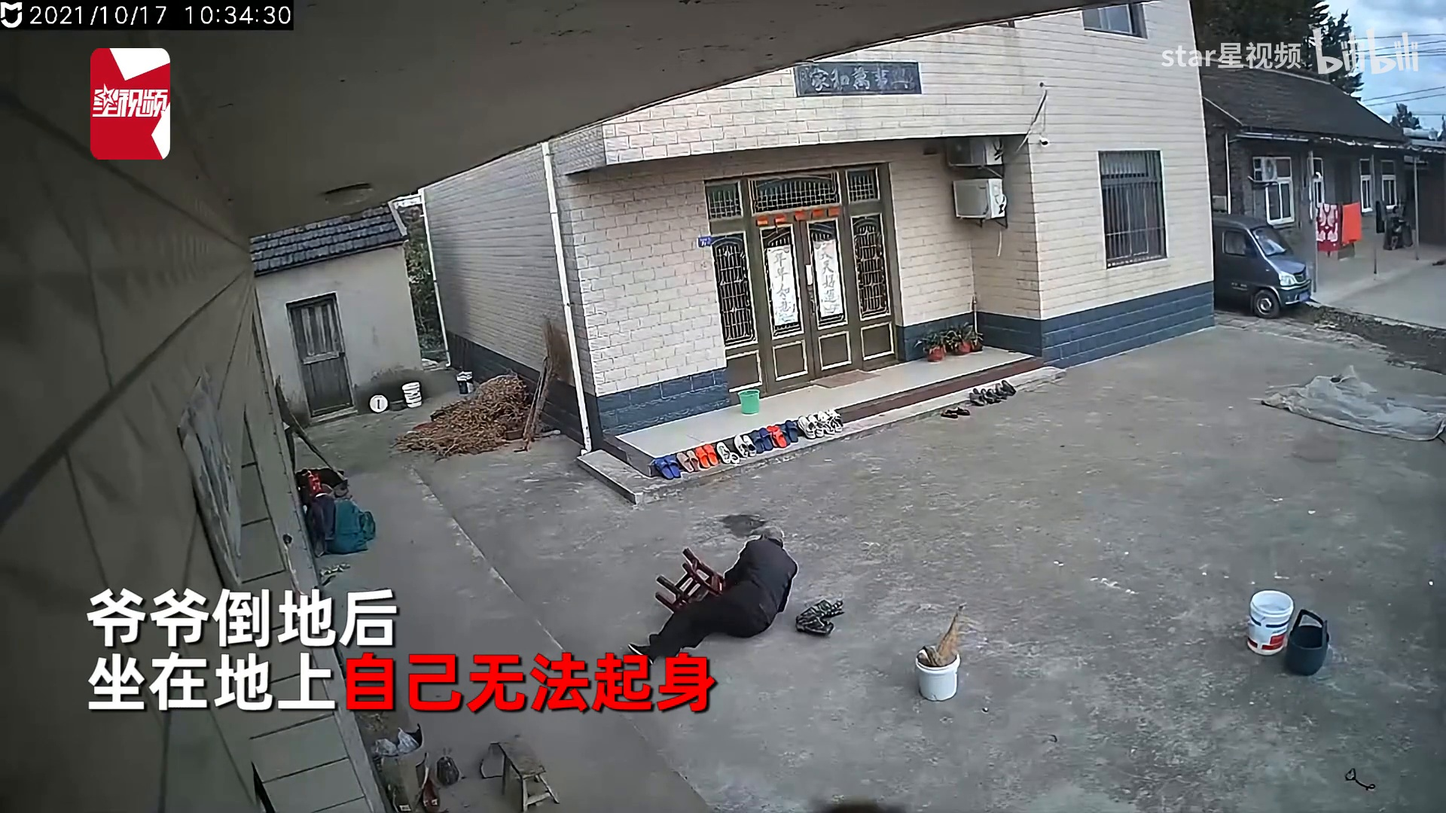half_up: (627, 531, 798, 660)
